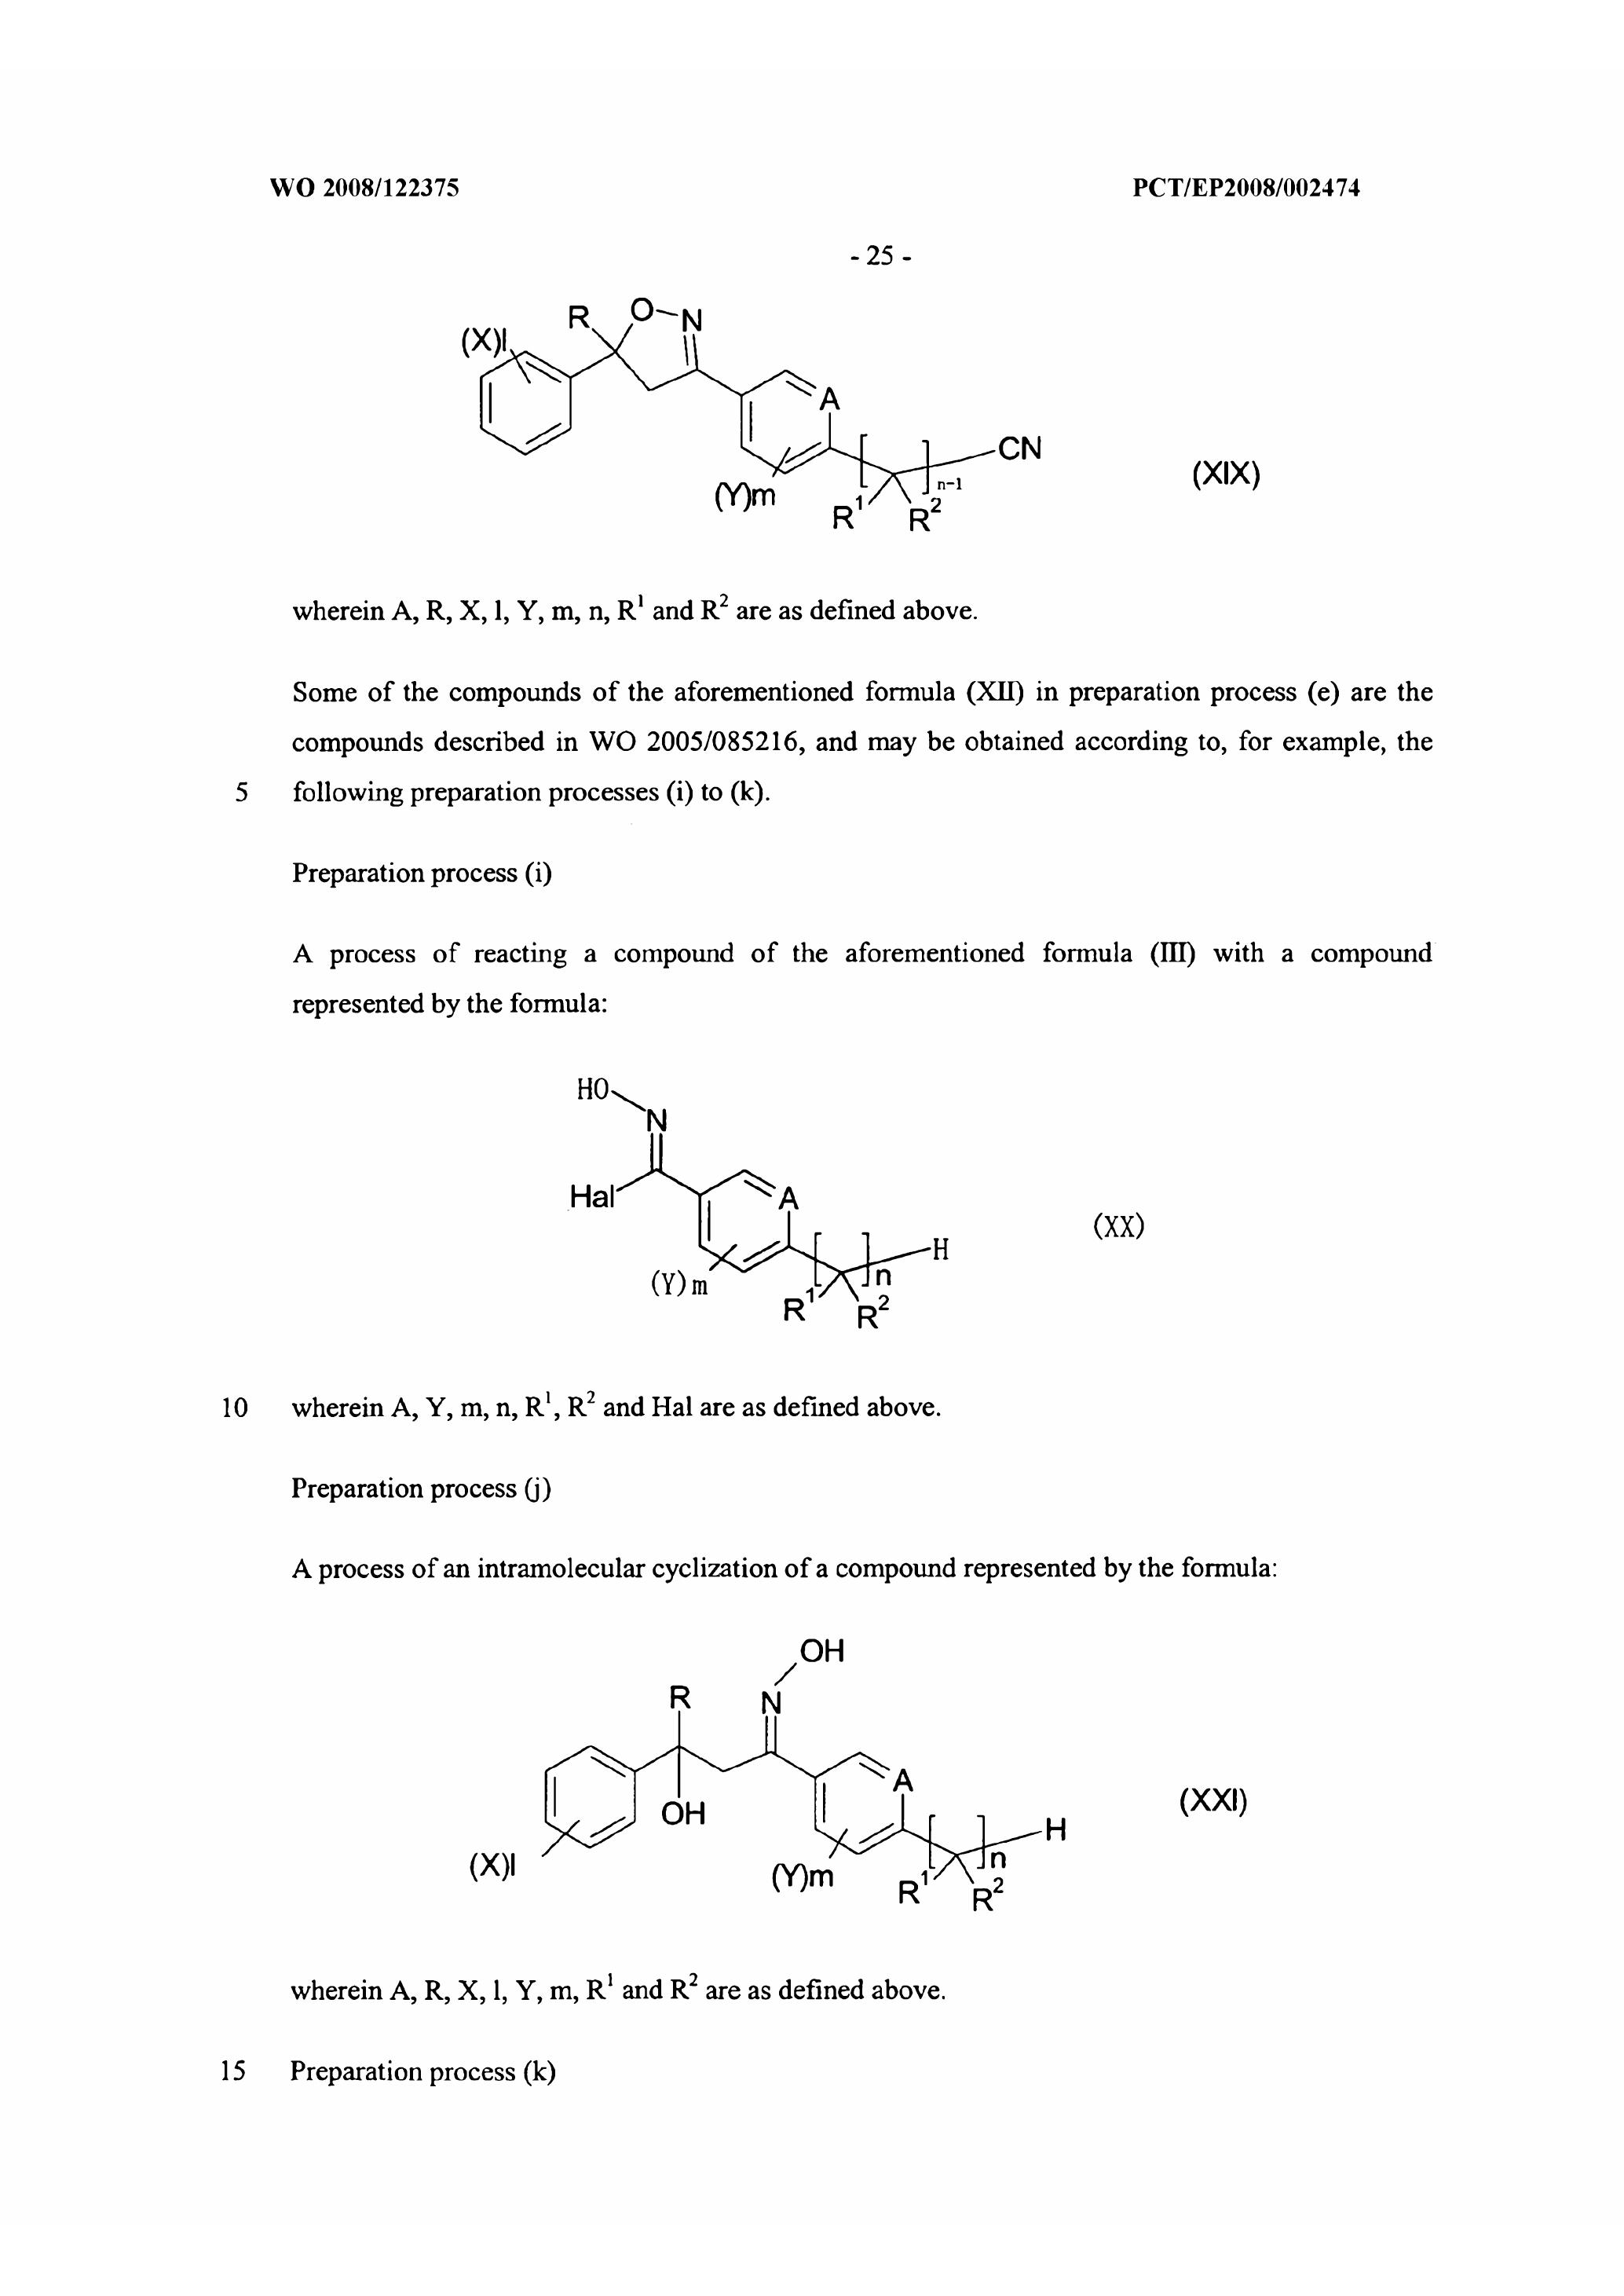reactions: (228, 1533, 1294, 2009), (320, 244, 1053, 640)
